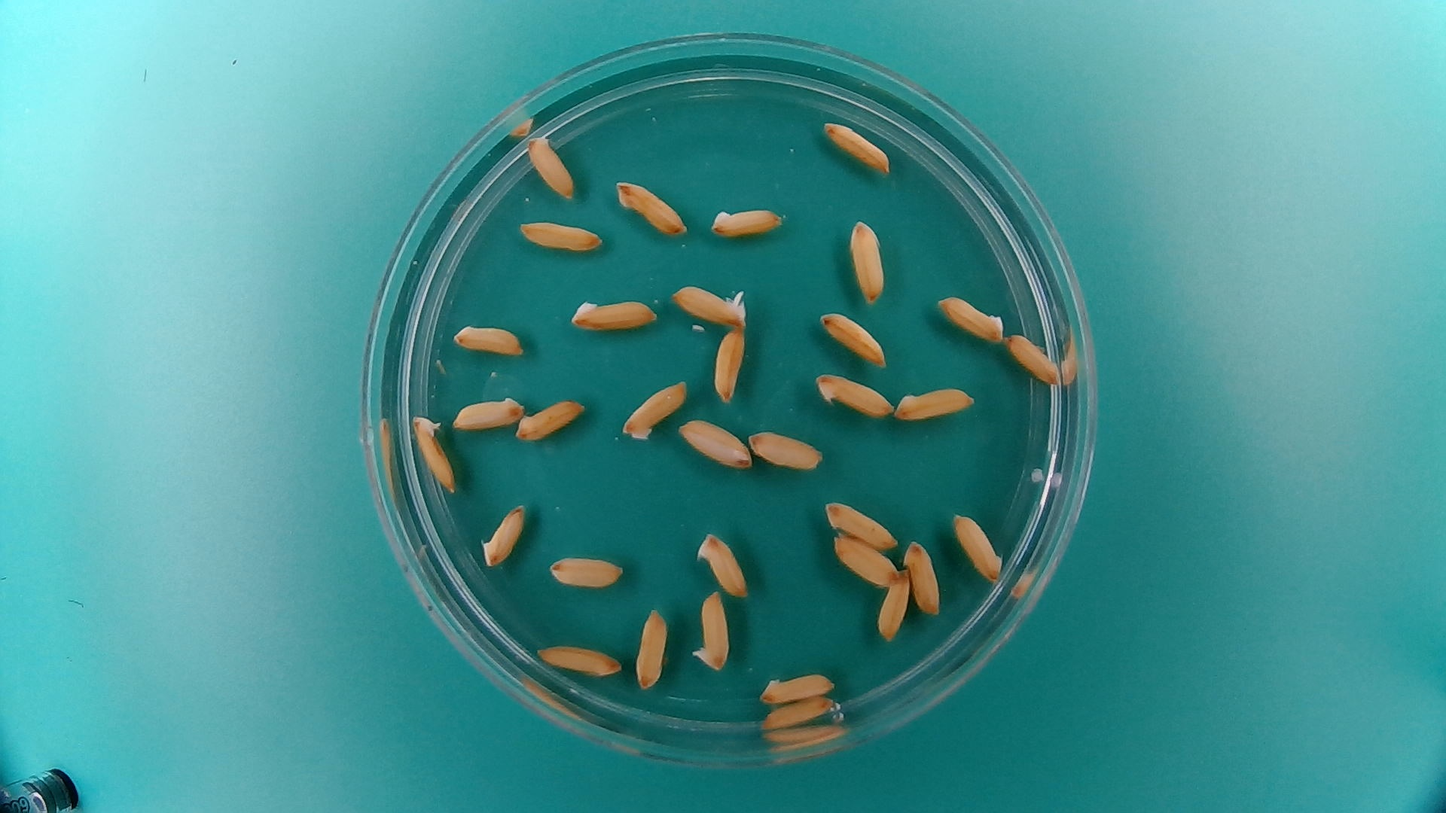no: (618, 377, 689, 442), (612, 177, 689, 235), (810, 368, 895, 418), (676, 415, 754, 469), (821, 118, 893, 176), (694, 527, 751, 600), (821, 497, 901, 549), (818, 309, 889, 367), (829, 529, 898, 588), (950, 509, 1005, 583), (566, 291, 660, 333), (445, 318, 533, 362), (523, 129, 576, 202), (511, 394, 588, 444), (933, 292, 1005, 344), (847, 215, 888, 306), (532, 639, 624, 678), (892, 382, 978, 422), (746, 428, 825, 471), (477, 500, 526, 568), (1003, 330, 1063, 385), (517, 217, 605, 254), (633, 604, 670, 690), (903, 537, 942, 617), (545, 553, 625, 592), (706, 201, 787, 239), (450, 392, 527, 431), (756, 668, 837, 705), (711, 323, 747, 406), (758, 693, 835, 731), (876, 567, 913, 642)
yes: (667, 280, 749, 327), (410, 412, 457, 494), (691, 586, 731, 674)
